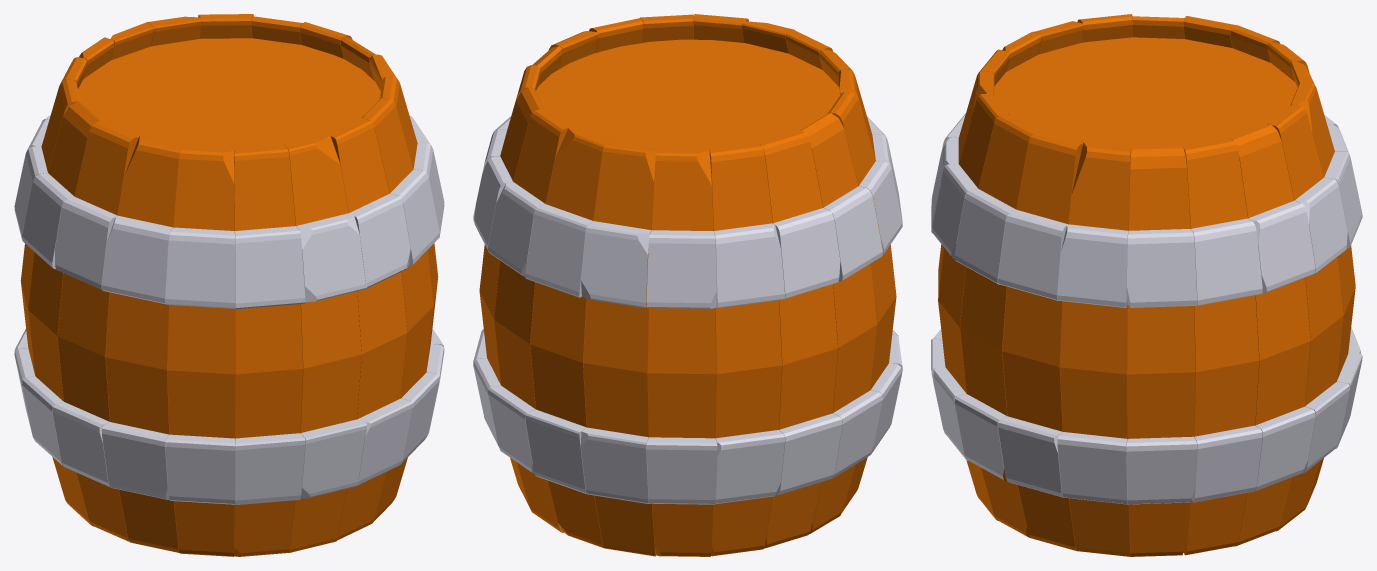
File: Barrel.fbx
3 renders of one model, left to right at view 1: azimuth 30°, elevation 25°; view 2: azimuth 150°, elevation 25°; view 3: azimuth 270°, elevation 25°, orthographic.
Visible parts, largest first — view 1: Barrel.001; view 2: Barrel.001; view 3: Barrel.001.
Part boxes in pixels (left/top/right/bottom): Barrel.001: left=14, top=14, right=444, bottom=556; Barrel.001: left=473, top=14, right=902, bottom=556; Barrel.001: left=931, top=14, right=1362, bottom=556.
Size of the model in its own units: 615 by 637 by 615.
